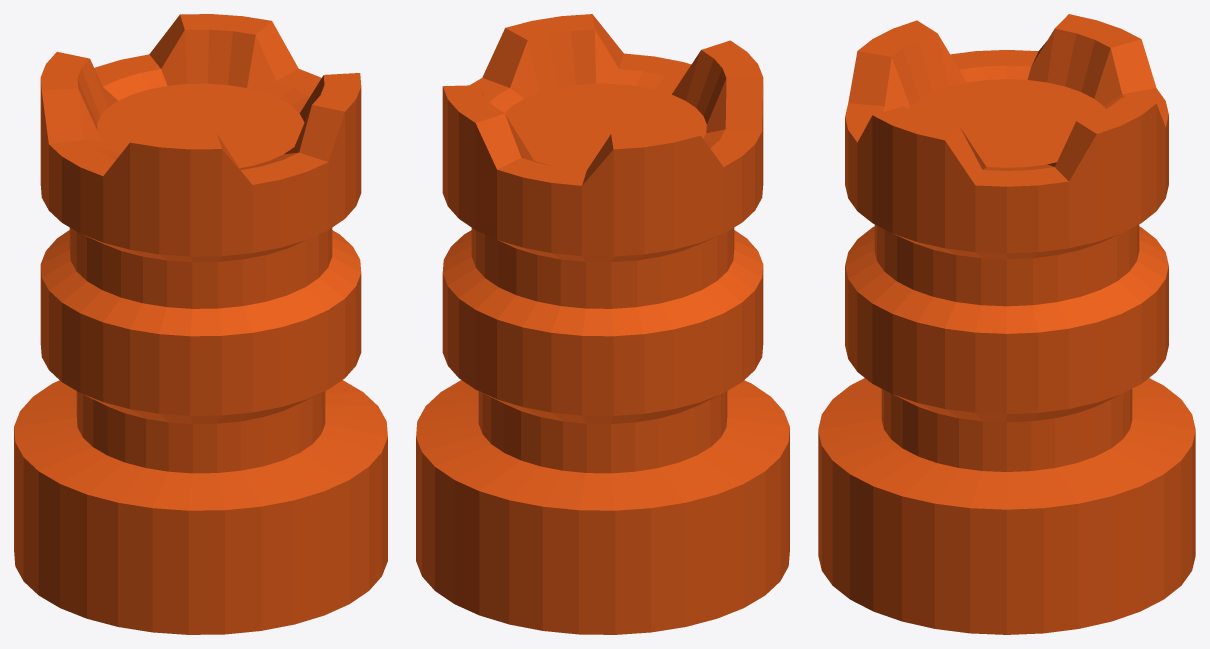
The model's file is torre (1).fbx.
3 renders of one model, left to right at view 1: azimuth 30°, elevation 25°; view 2: azimuth 150°, elevation 25°; view 3: azimuth 270°, elevation 25°, orthographic.
Parts seen in each view (by area): view 1: Cylinder; view 2: Cylinder; view 3: Cylinder.
Part boxes in pixels (<box>): Cylinder: <box>14,14,387,634</box>; Cylinder: <box>416,14,789,634</box>; Cylinder: <box>818,14,1195,634</box>.
Bounding box in the file's own units: 233 × 326 × 233.
